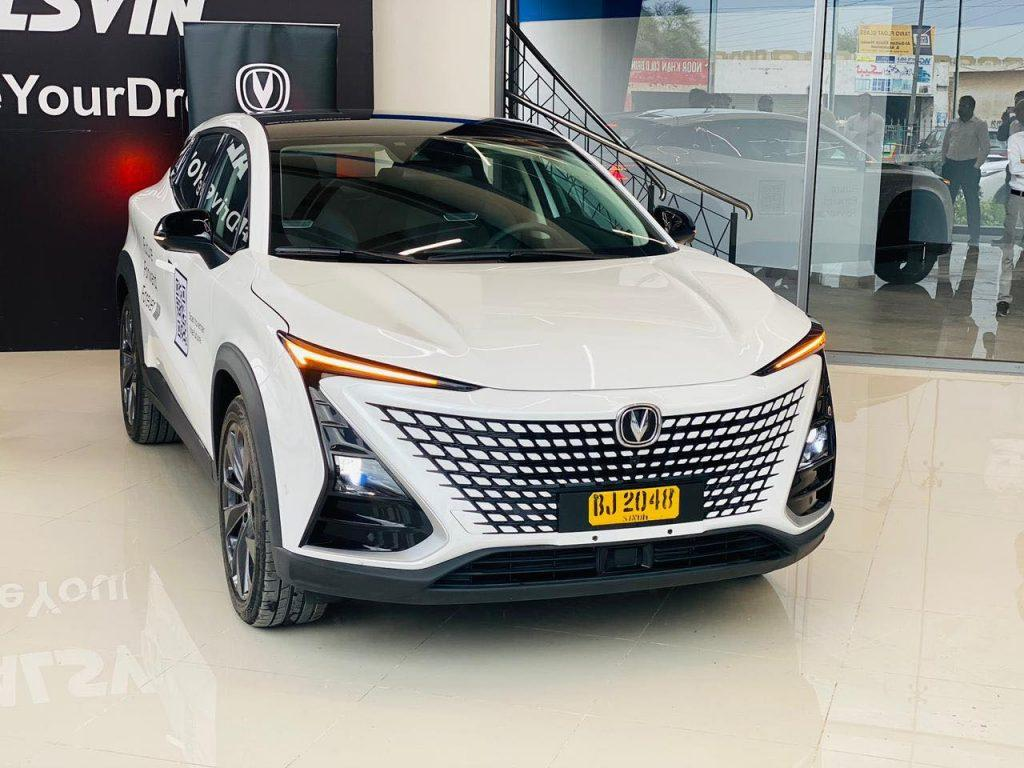windshield: (264, 122, 678, 264)
